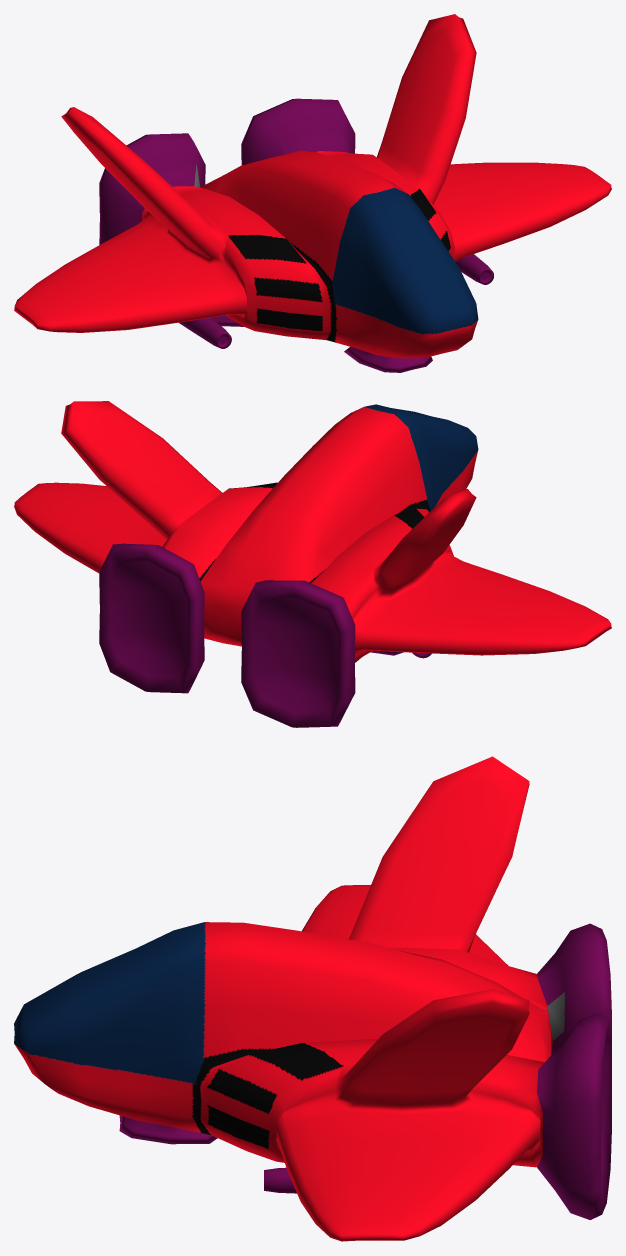
Rendered from spaceship.fbx.
The picture shows the model from 3 angles, top to bottom: view 1: azimuth 30°, elevation 25°; view 2: azimuth 150°, elevation 25°; view 3: azimuth 270°, elevation 25°; orthographic projection. The views are drawn at different scales.
Visible parts, largest first — view 1: pCube6; view 2: pCube6; view 3: pCube6.
Boxes of the visible parts, x1,y1,x2,y2 form: pCube6: (14,14,611,372); pCube6: (14,401,611,727); pCube6: (14,756,611,1241).
Bounding box in the file's own units: 13.65 × 9.83 × 5.27.
